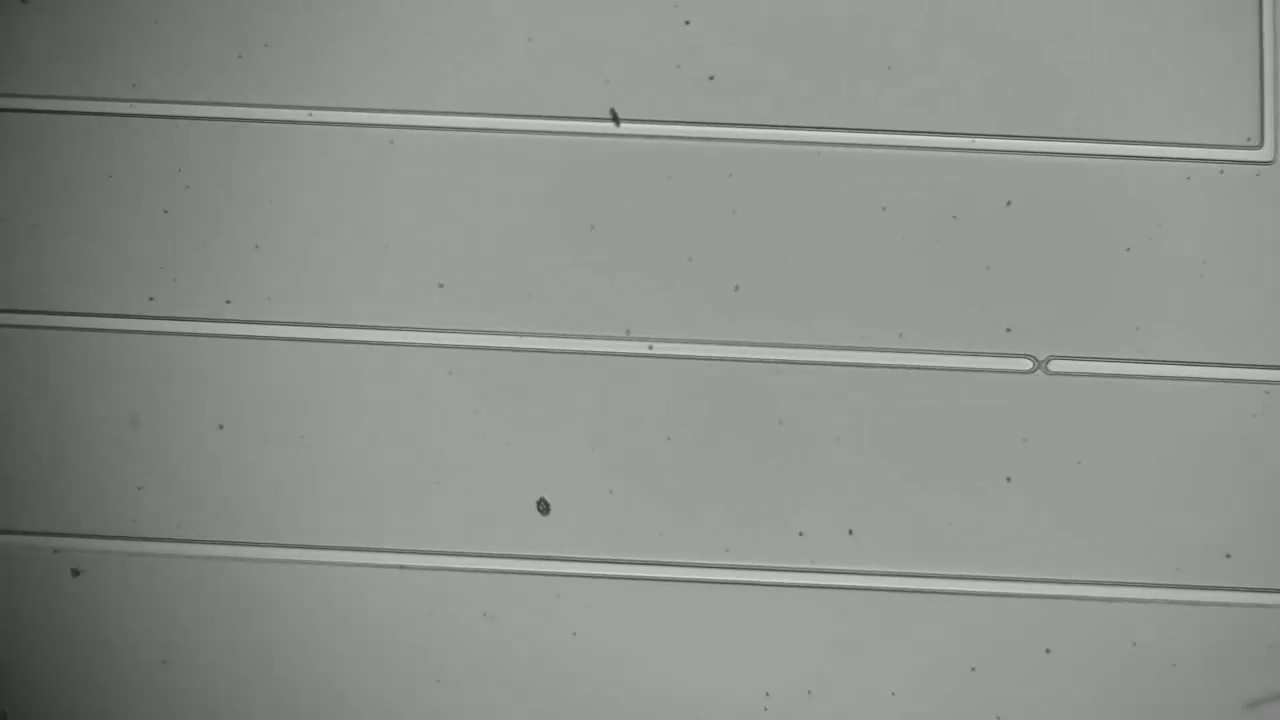open: (1014, 342, 1076, 394)
stains_enbedded: (595, 97, 642, 151)
